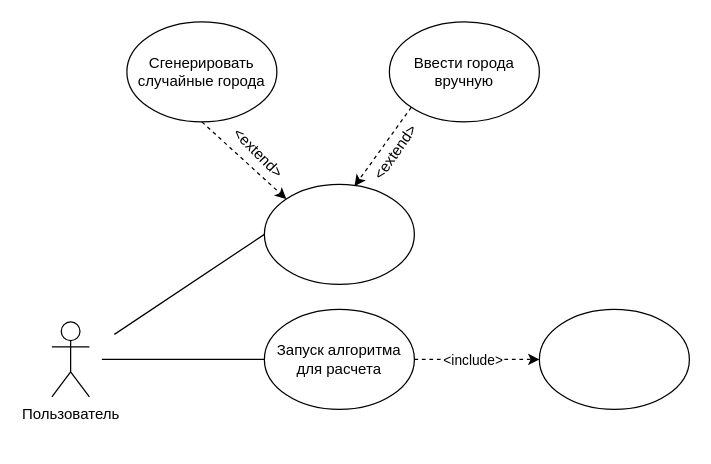
Image size: 711x464. Some labels were removed from this diagram. Each missing label, with the centre of its shape:
"Ввод городов" belongs at pixel 338 233.
"Отображение графа с маршрутом" belongs at pixel 613 358.
